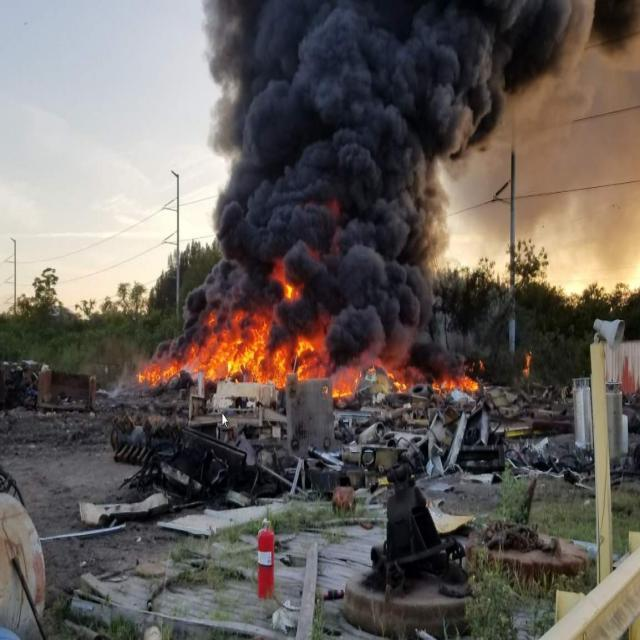Fire: (124, 300, 500, 408), (267, 254, 313, 310), (521, 356, 532, 377)
